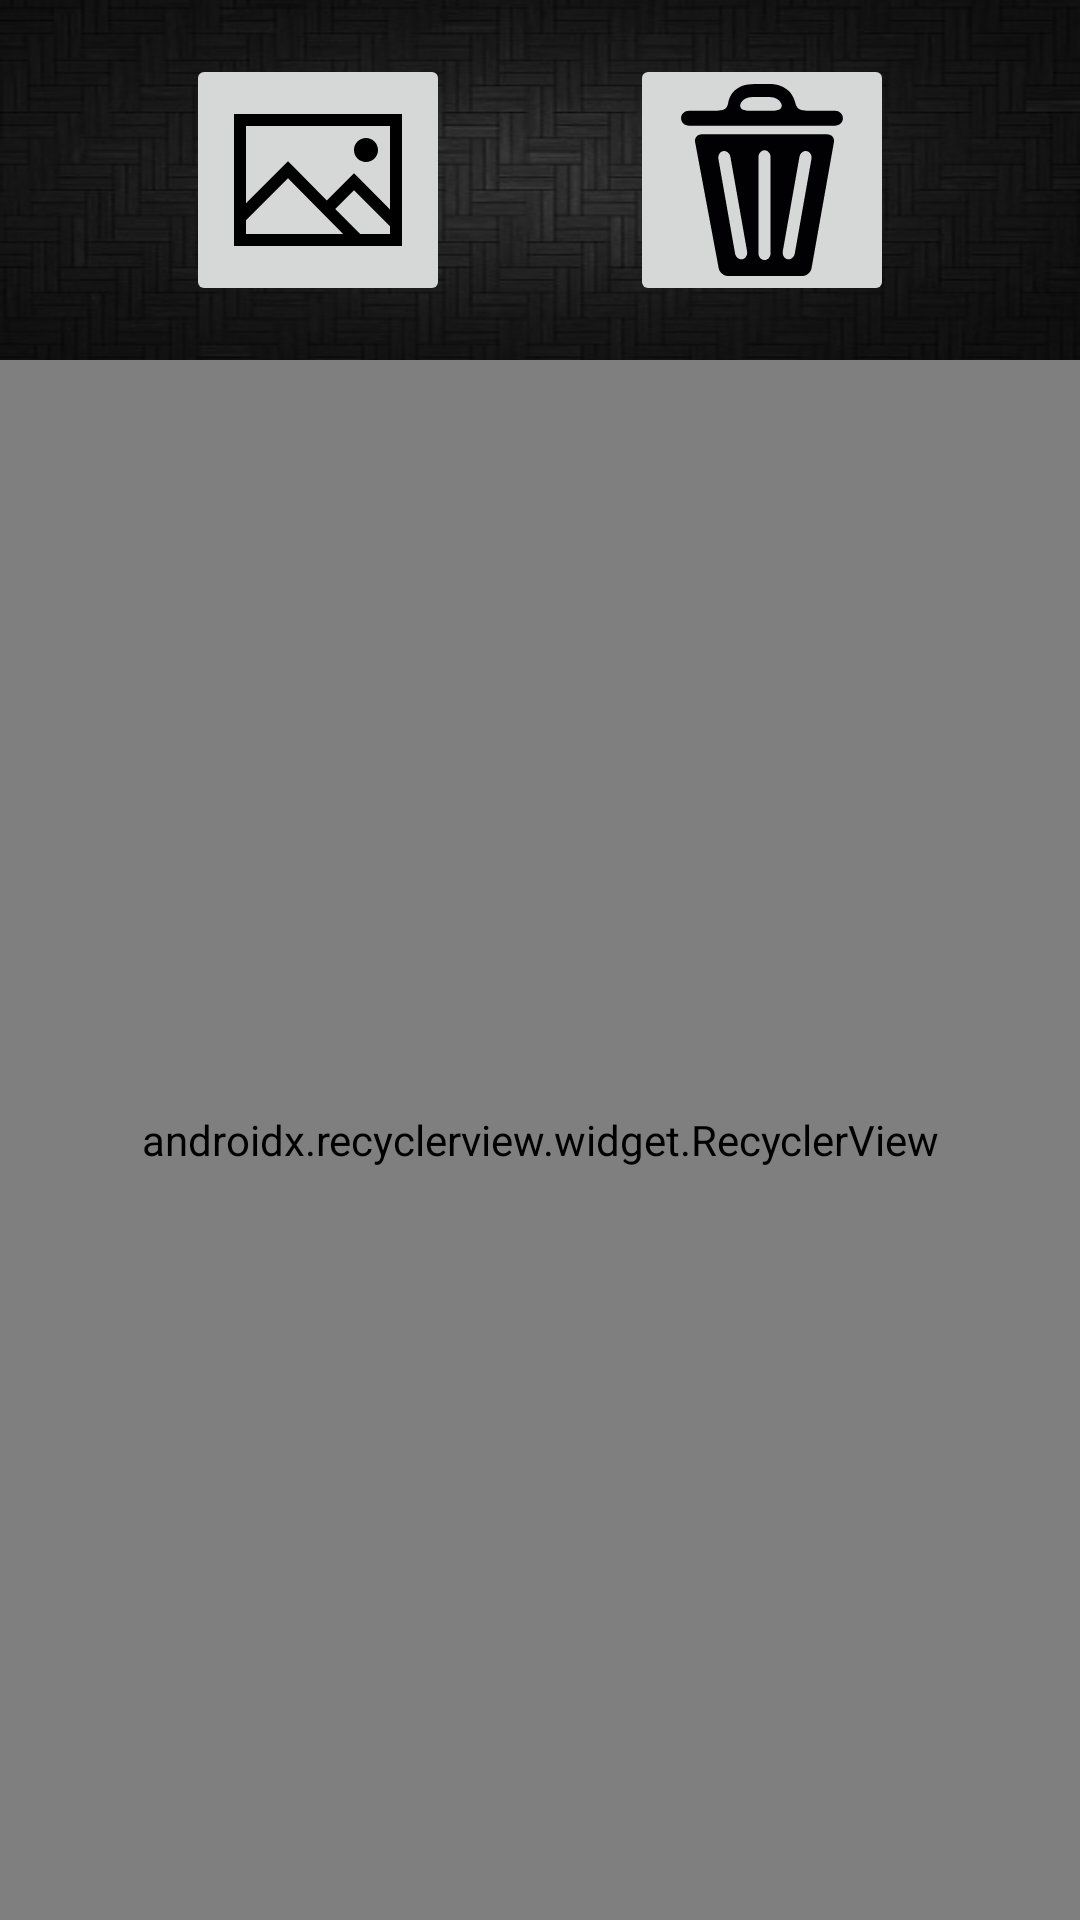

Icons on this 1080×1920 Android screen, each with the point to tap as [x,y]:
photo: [324,180]
trashcan close: [756,180]
